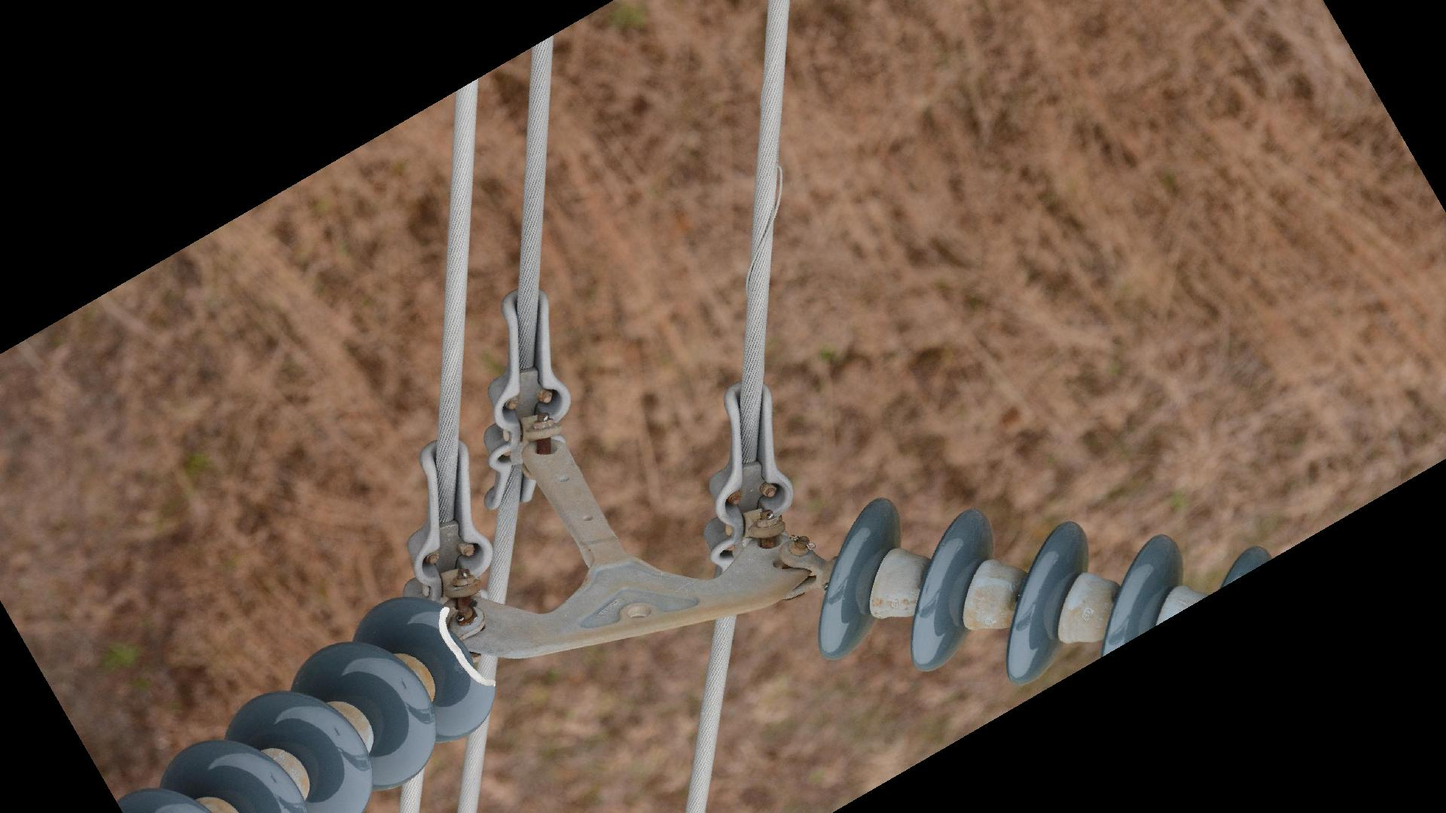insulator: (810, 494, 1278, 687), (116, 593, 505, 813)
insulator_breakage: (432, 603, 502, 693)
